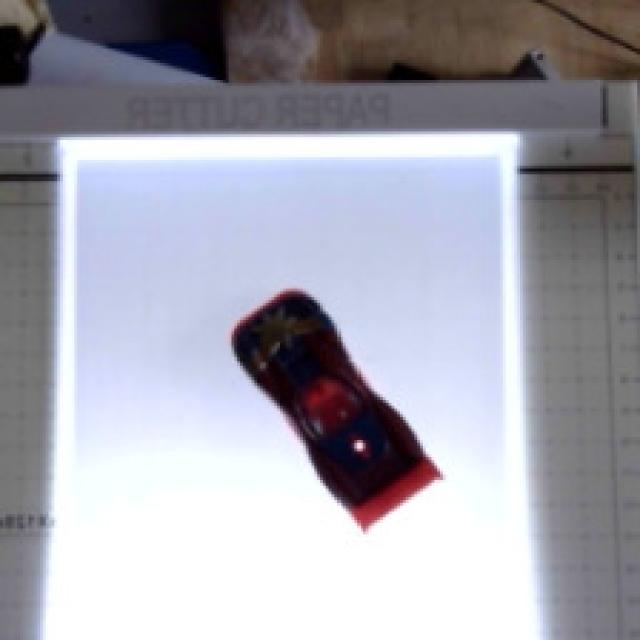Red Car: (143, 263, 479, 568)
